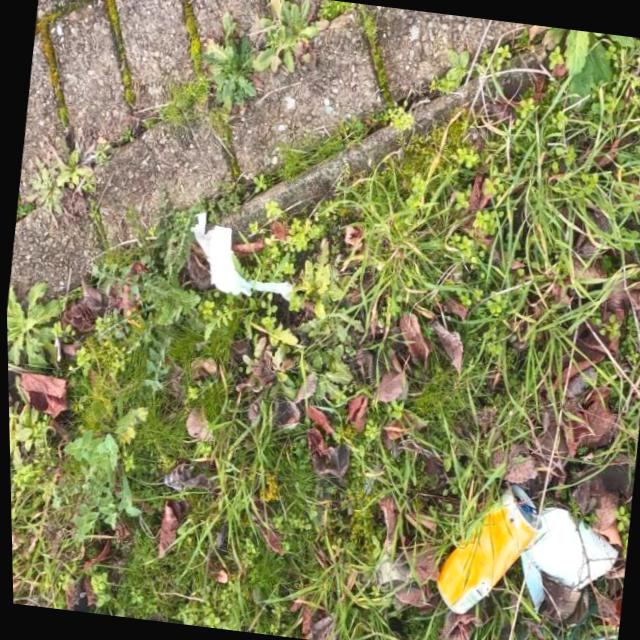Can-Metal: (426, 473, 545, 623)
Cup: (508, 500, 623, 624)
Paper: (180, 208, 303, 302)
